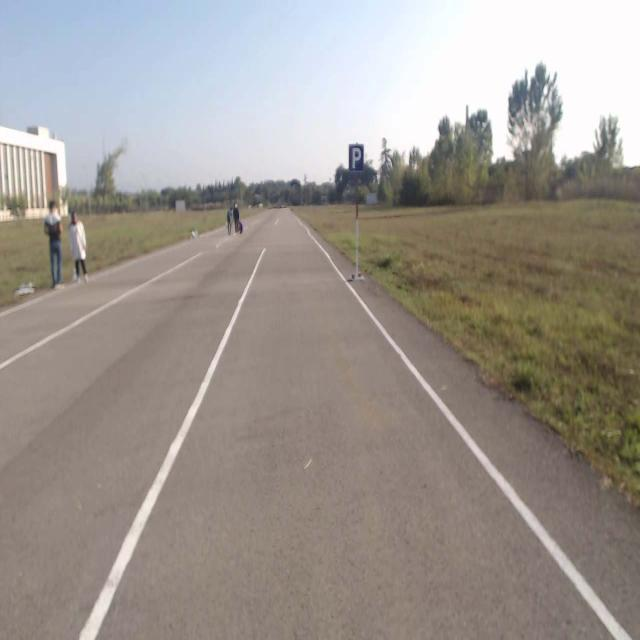park: (349, 144, 363, 172)
